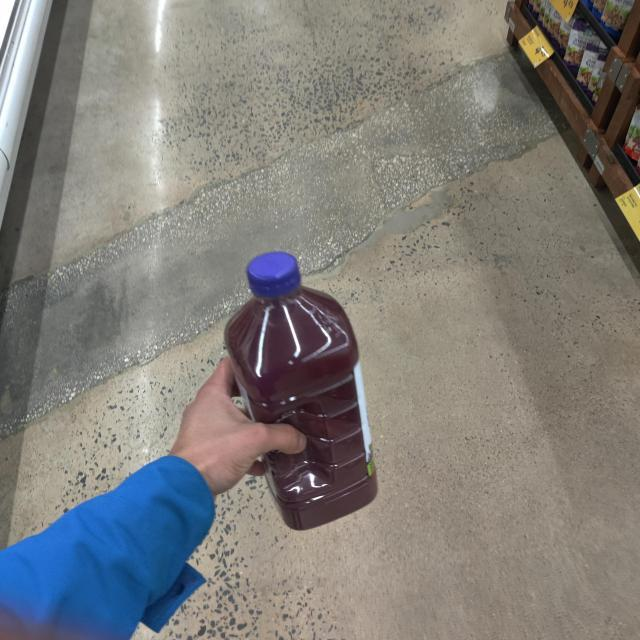Juice: (225, 233, 395, 529)
